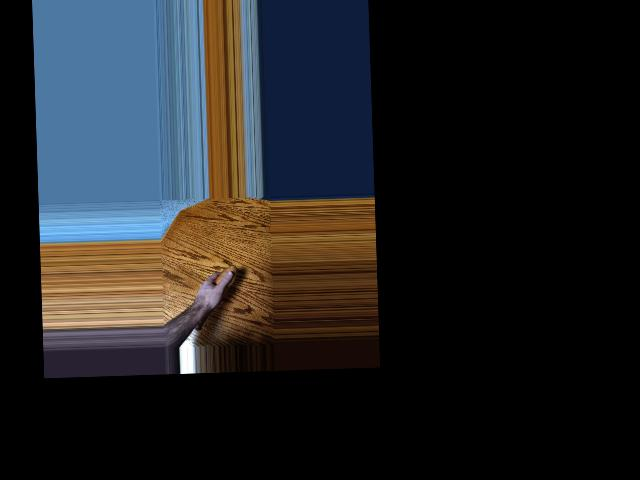sweet_potato: (193, 263, 240, 331)
